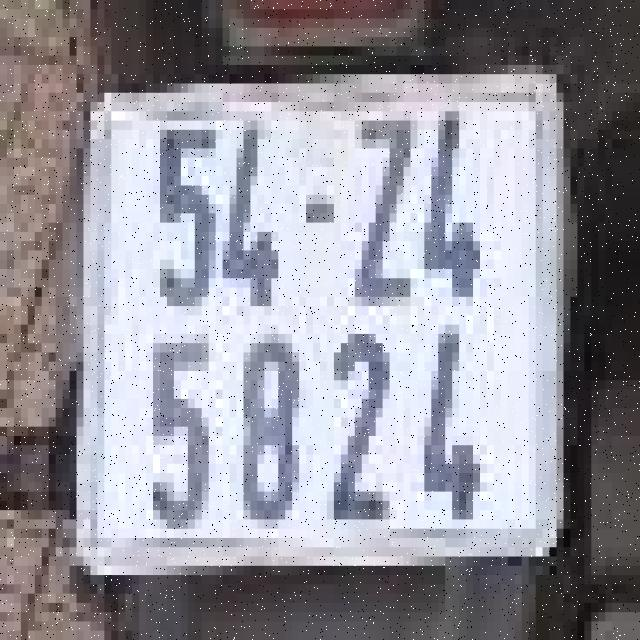2: (323, 330, 400, 534)
4: (417, 102, 494, 297), (421, 324, 490, 520), (226, 116, 289, 311)
5: (146, 329, 216, 543), (150, 116, 219, 301)
8: (233, 324, 310, 520)
Z: (348, 107, 417, 320)
